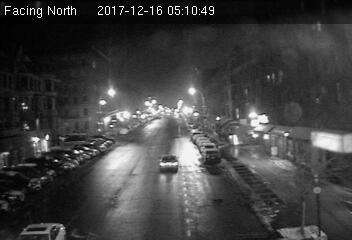car: (159, 153, 178, 173), (202, 148, 221, 163)
